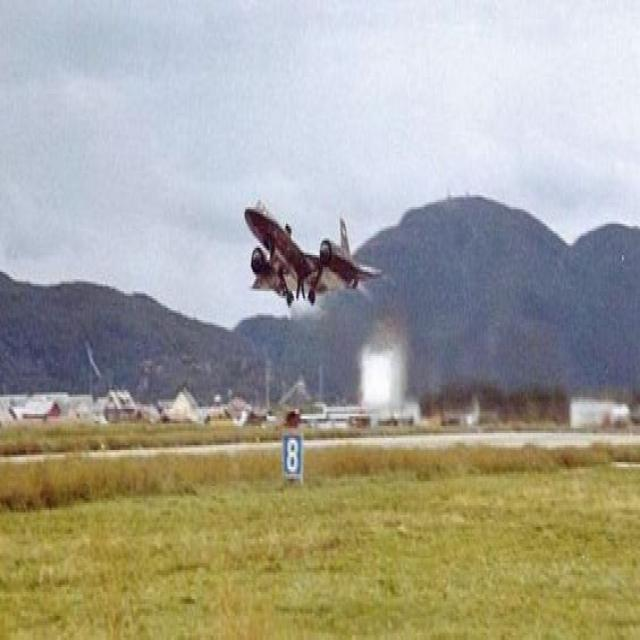MIL_Plane: (243, 195, 383, 308)
